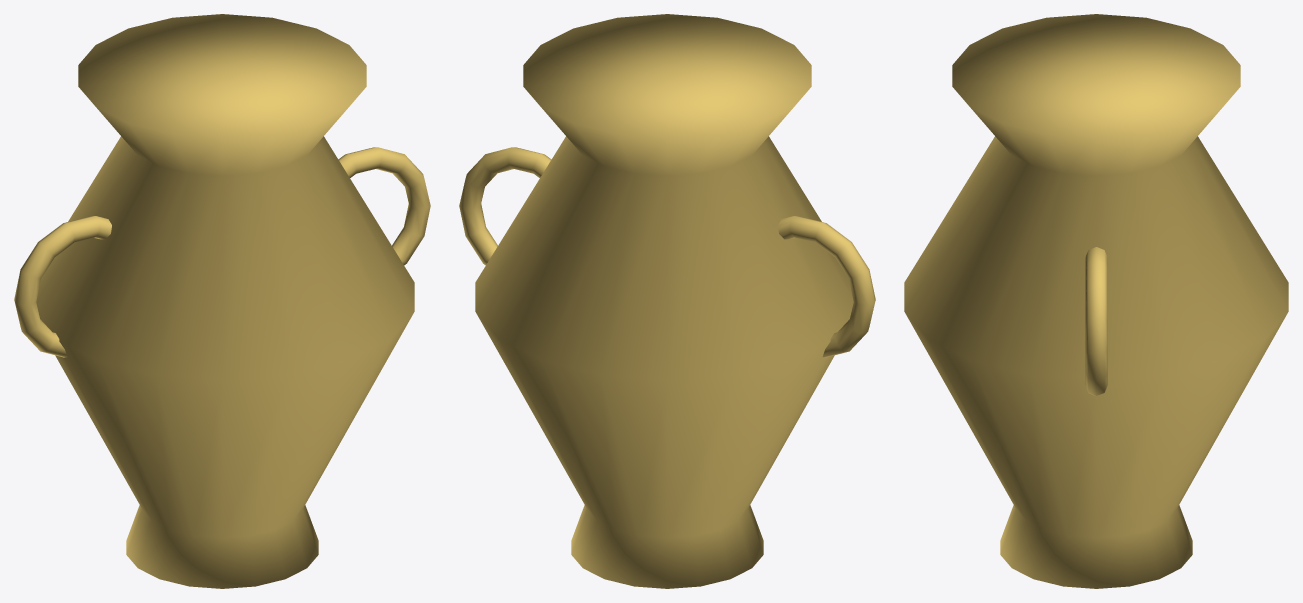
The model's file is urn_gold_ornate.glb.
3 renders of one model, left to right at view 1: azimuth 30°, elevation 25°; view 2: azimuth 150°, elevation 25°; view 3: azimuth 270°, elevation 25°, orthographic.
Visible parts, largest first — view 1: GD_urn_gold_ornate__m0; view 2: GD_urn_gold_ornate__m0; view 3: GD_urn_gold_ornate__m0.
Boxes of the visible parts, x1,y1,x2,y2 form: GD_urn_gold_ornate__m0: (14,14,430,588); GD_urn_gold_ornate__m0: (459,14,875,588); GD_urn_gold_ornate__m0: (904,14,1288,588).
Bounding box in the file's own units: 0.294 × 0.32 × 0.2364.
